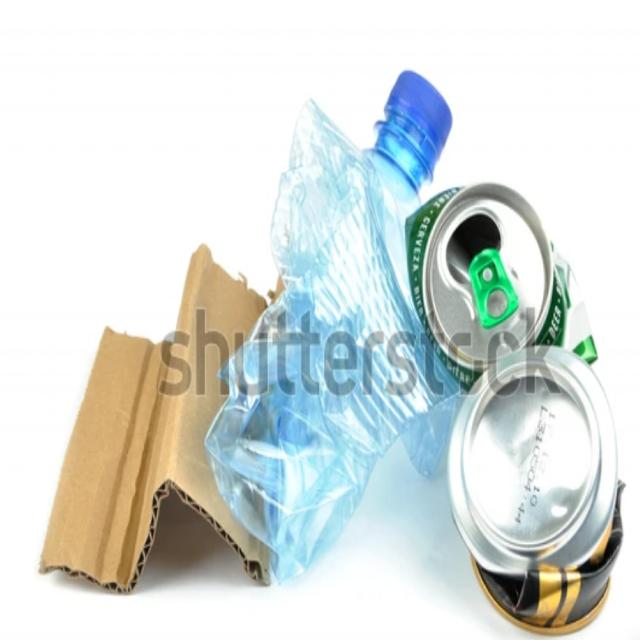dry: (203, 67, 455, 588), (38, 238, 284, 592), (445, 344, 625, 637), (406, 180, 598, 392)
